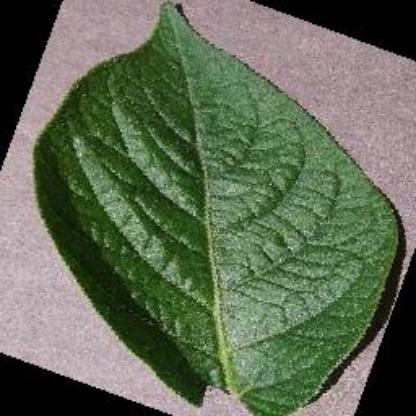Healthy-plant: (29, 0, 406, 416)
